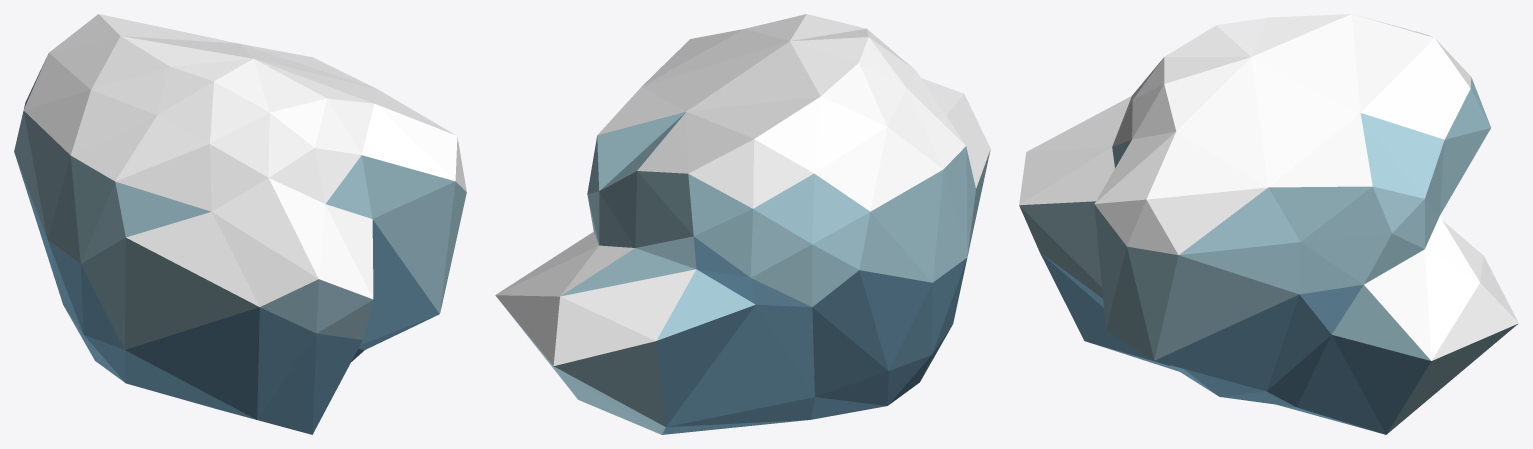
The model's file is terrainRockMedium1.fbx.
3 renders of one model, left to right at view 1: azimuth 30°, elevation 25°; view 2: azimuth 150°, elevation 25°; view 3: azimuth 270°, elevation 25°, orthographic. The views are drawn at different scales.
Parts seen in each view (by area): view 1: icosphere; view 2: icosphere; view 3: icosphere.
Boxes of the visible parts, <box> form: icosphere: <box>14,14,466,434</box>; icosphere: <box>495,14,990,434</box>; icosphere: <box>1019,14,1518,434</box>.
Bounding box in the file's own units: 569 × 525 × 705.
1 material, 1 textured.
